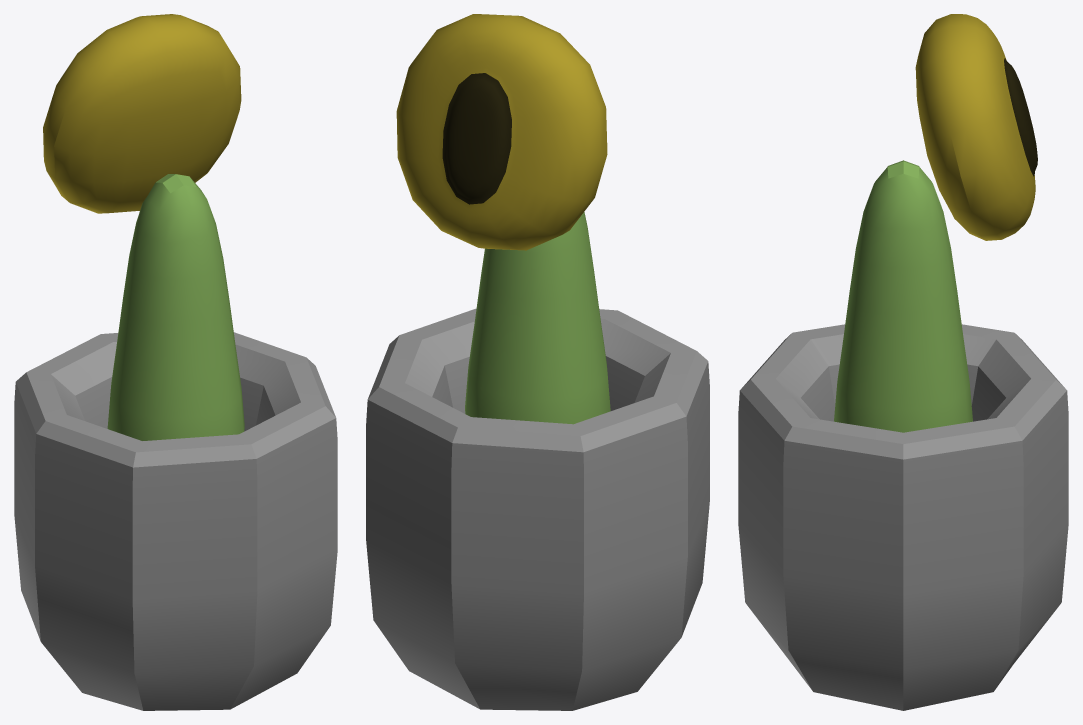
File: flower.fbx
The picture shows the model from 3 angles, left to right: view 1: azimuth 30°, elevation 25°; view 2: azimuth 150°, elevation 25°; view 3: azimuth 270°, elevation 25°; orthographic projection. The views are drawn at different scales.
Parts seen in each view (by area): view 1: Macetero; view 2: Macetero; view 3: Macetero.
Boxes of the visible parts, bbox=[...] form: Macetero: bbox=[14, 14, 337, 710]; Macetero: bbox=[366, 14, 709, 710]; Macetero: bbox=[738, 14, 1068, 710].
Size of the model in its own units: 0.9167 by 0.9167 by 2.02.
